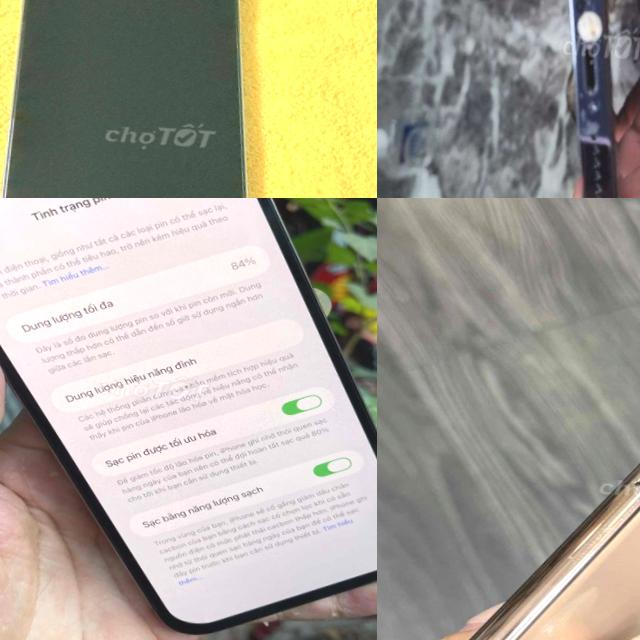gen_11: (377, 209, 640, 640)
gen_12_13: (524, 0, 640, 198)
gen_14: (0, 198, 377, 640), (0, 0, 284, 198)
